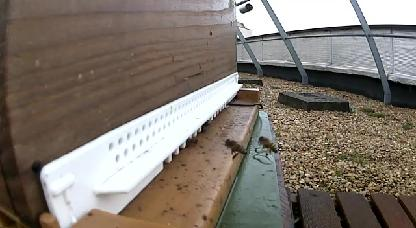bee: (222, 138, 248, 159), (256, 135, 276, 156), (184, 137, 198, 147), (202, 121, 209, 132)
